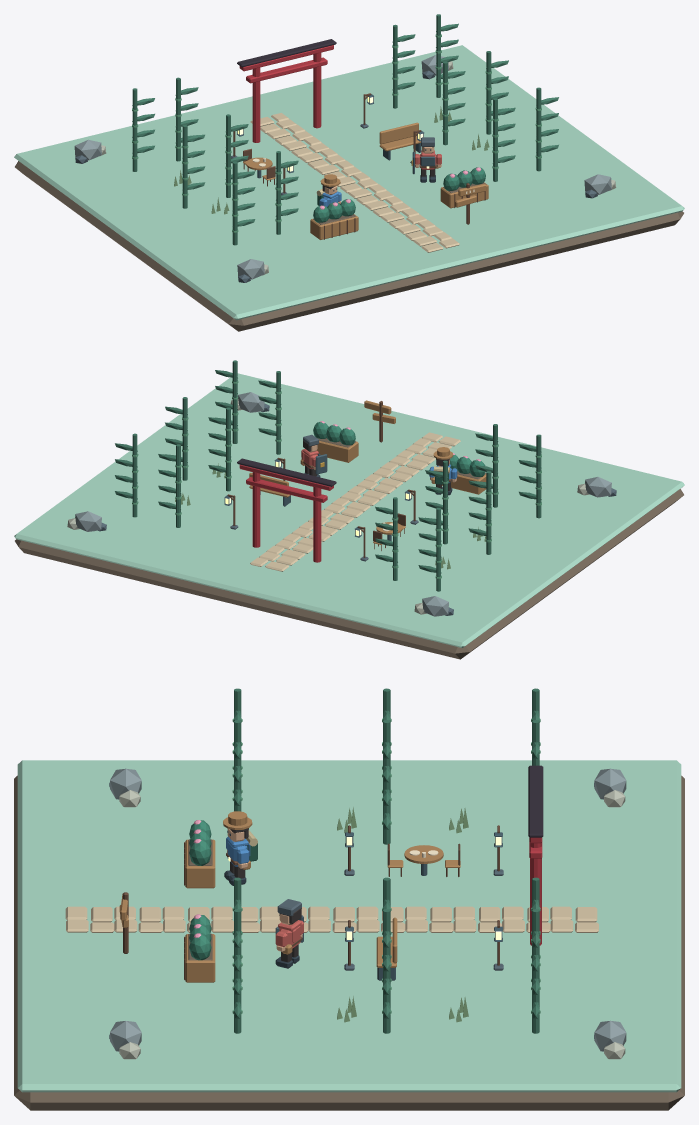
Rendered from world-bamboo.glb.
The picture shows the model from 3 angles, top to bottom: view 1: azimuth 30°, elevation 25°; view 2: azimuth 150°, elevation 25°; view 3: azimuth 270°, elevation 25°; orthographic projection. The views are drawn at different scales.
Visible parts, largest first — view 1: terrain-top, terrain-stratum, planter-body.001, torii-cap.001, torii-beam.002, torii-post.002, torii-post.003, bench-back.001; view 2: terrain-top, terrain-stratum, torii-cap.001, torii-beam.002, torii-post.002, torii-post.003, planter-body.002, torii-beam.003, rock.009, rock.003, rock.012, bamboo.010 (+3 smaller); view 3: terrain-top, terrain-stratum, torii-cap.001, planter-body.001, planter-body.002, rock.012, rock.009, rock.003, rock.006.
Boxes of the visible parts, x1=… form: terrain-top: x1=14, y1=45, x2=684, y2=320; terrain-stratum: x1=15, y1=161, x2=683, y2=331; planter-body.001: x1=310, y1=214, x2=358, y2=239; torii-cap.001: x1=237, y1=39, x2=336, y2=67; torii-beam.002: x1=246, y1=57, x2=327, y2=83; torii-post.002: x1=252, y1=67, x2=260, y2=142; torii-post.003: x1=313, y1=52, x2=321, y2=128; bench-back.001: x1=379, y1=122, x2=418, y2=144; terrain-top: x1=14, y1=373, x2=684, y2=648; terrain-stratum: x1=15, y1=489, x2=683, y2=659; torii-cap.001: x1=237, y1=458, x2=336, y2=486; torii-beam.002: x1=246, y1=477, x2=327, y2=502; torii-post.002: x1=313, y1=487, x2=321, y2=562; torii-post.003: x1=252, y1=472, x2=260, y2=547; planter-body.002: x1=317, y1=440, x2=358, y2=462; torii-beam.003: x1=239, y1=464, x2=333, y2=490; rock.009: x1=422, y1=596, x2=448, y2=616; rock.003: x1=585, y1=477, x2=611, y2=497; rock.012: x1=75, y1=511, x2=101, y2=531; bamboo.010: x1=182, y1=397, x2=187, y2=480; terrain-top: x1=17, y1=760, x2=681, y2=1092; terrain-stratum: x1=14, y1=775, x2=684, y2=1110; torii-cap.001: x1=528, y1=765, x2=543, y2=837; planter-body.001: x1=185, y1=839, x2=215, y2=888; planter-body.002: x1=185, y1=934, x2=215, y2=982; rock.012: x1=594, y1=1020, x2=626, y2=1051; rock.009: x1=594, y1=768, x2=626, y2=799; rock.003: x1=110, y1=768, x2=141, y2=799; rock.006: x1=110, y1=1021, x2=141, y2=1051.
Size of the model in its own units: 21 by 4.51 by 18.
